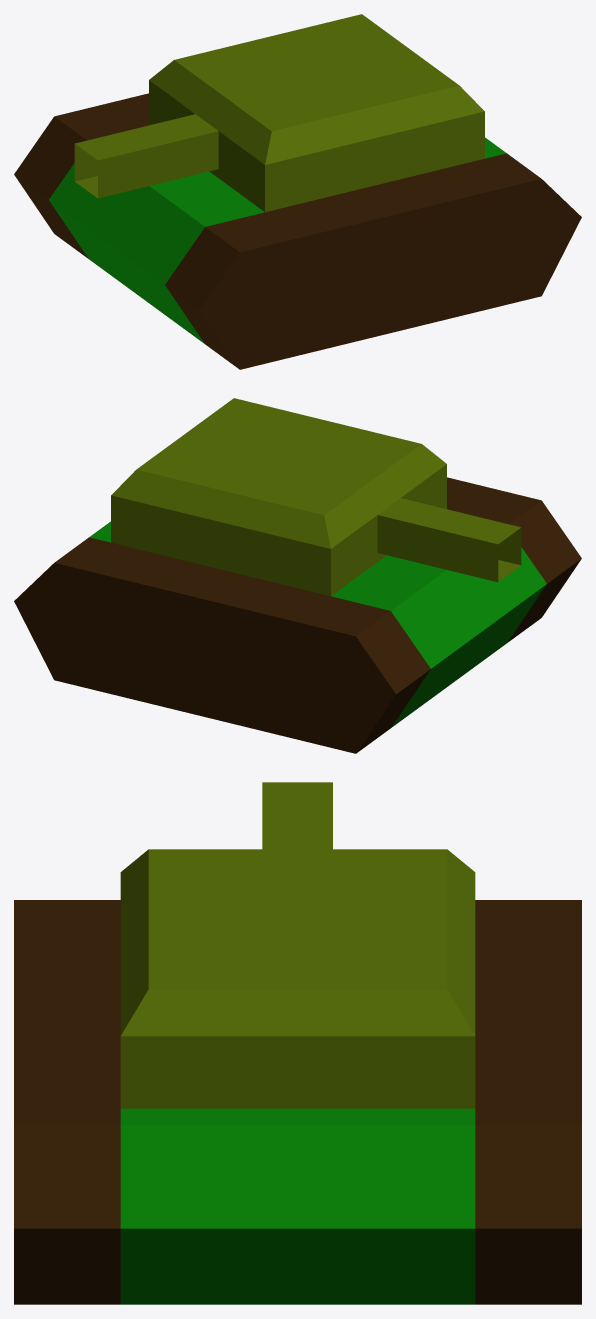
Rendered from tank_1_3.glb.
The picture shows the model from 3 angles, top to bottom: view 1: azimuth 30°, elevation 25°; view 2: azimuth 150°, elevation 25°; view 3: azimuth 270°, elevation 25°; orthographic projection. The views are drawn at different scales.
Parts seen in each view (by area): view 1: tank_green_3; view 2: tank_green_3; view 3: tank_green_3.
Boxes of the visible parts, x1=… form: tank_green_3: x1=14, y1=14, x2=581, y2=369; tank_green_3: x1=14, y1=398, x2=581, y2=753; tank_green_3: x1=14, y1=782, x2=581, y2=1304.
Size of the model in its own units: 2 by 0.8918 by 1.6.
Materials: 1 (1 with a texture image).
